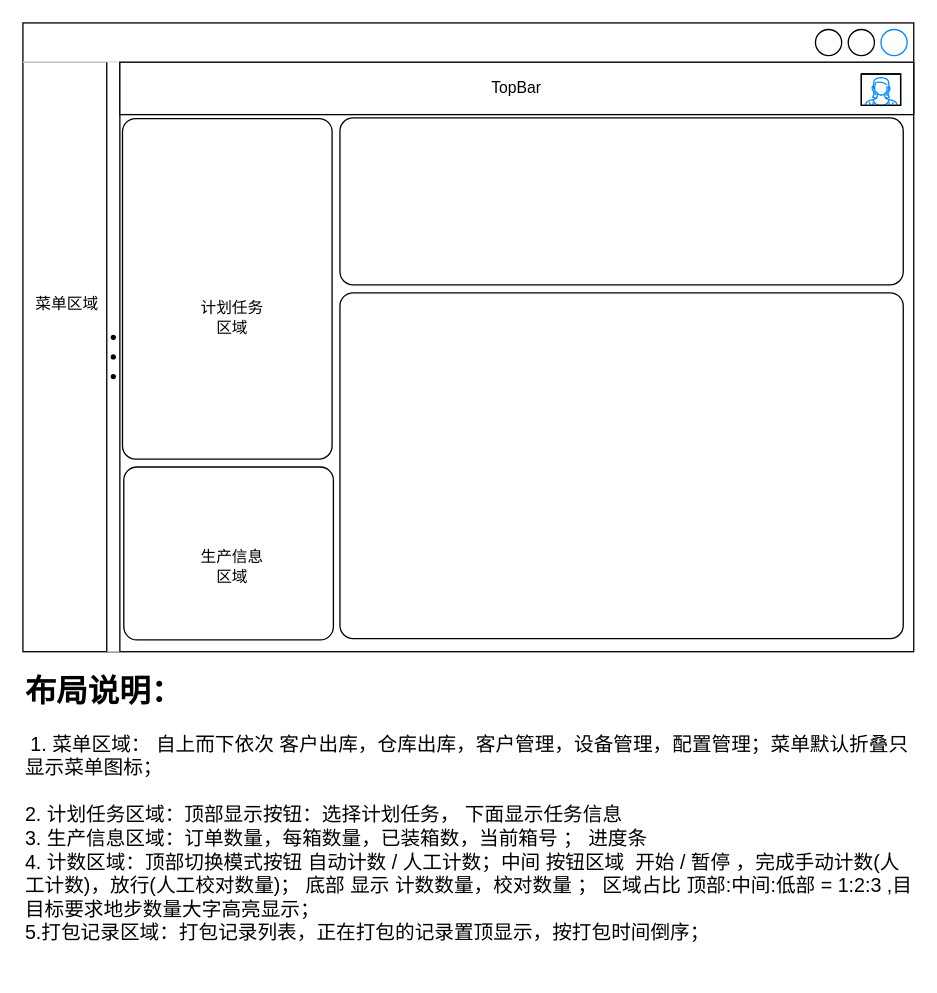
The diagram is 937 pixels wide and 993 high, and some of its shapes have lost their labels. The shapes that lost their labels are listed below. From the top down, each one's centre as x and y in pixels, then its label:
the point at 621,194: 计数模式
the point at 621,458: 打包记录列表区域
